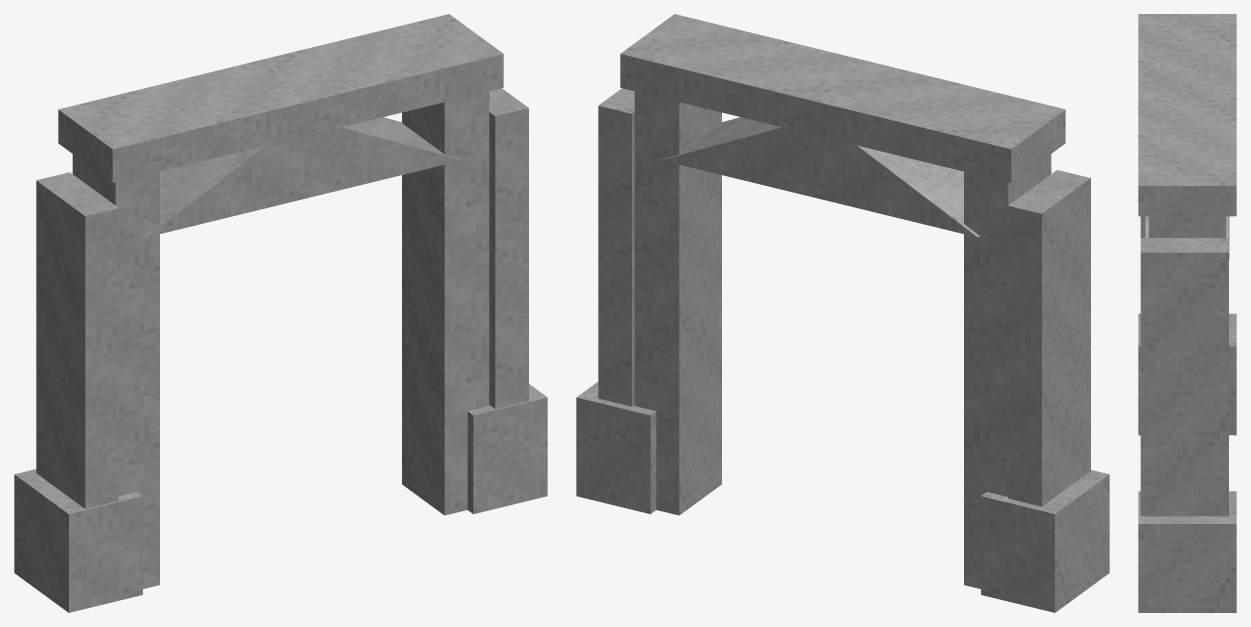
File: level_blockout_cloister_arcade.glb
3 renders of one model, left to right at view 1: azimuth 30°, elevation 25°; view 2: azimuth 150°, elevation 25°; view 3: azimuth 270°, elevation 25°, orthographic. The views are drawn at different scales.
Parts seen in each view (by area): view 1: level_blockout_cloister_arcade; view 2: level_blockout_cloister_arcade; view 3: level_blockout_cloister_arcade.
Part boxes in pixels (x1,y1,x2,y2): level_blockout_cloister_arcade: (14, 14, 547, 612); level_blockout_cloister_arcade: (576, 14, 1109, 612); level_blockout_cloister_arcade: (1138, 14, 1236, 612).
Bounding box in the file's own units: 3.55 × 3.21 × 0.7.
1 material, 1 textured.
